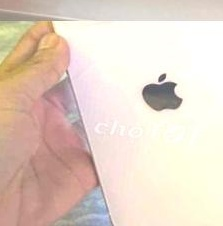physical_damage: (111, 112, 197, 152), (120, 163, 171, 202), (95, 197, 163, 226), (176, 186, 223, 226), (95, 81, 147, 114), (172, 66, 223, 98), (118, 138, 171, 168), (86, 55, 139, 84), (152, 195, 201, 226), (157, 34, 203, 66), (110, 30, 154, 59), (123, 21, 194, 34), (67, 71, 94, 96)
